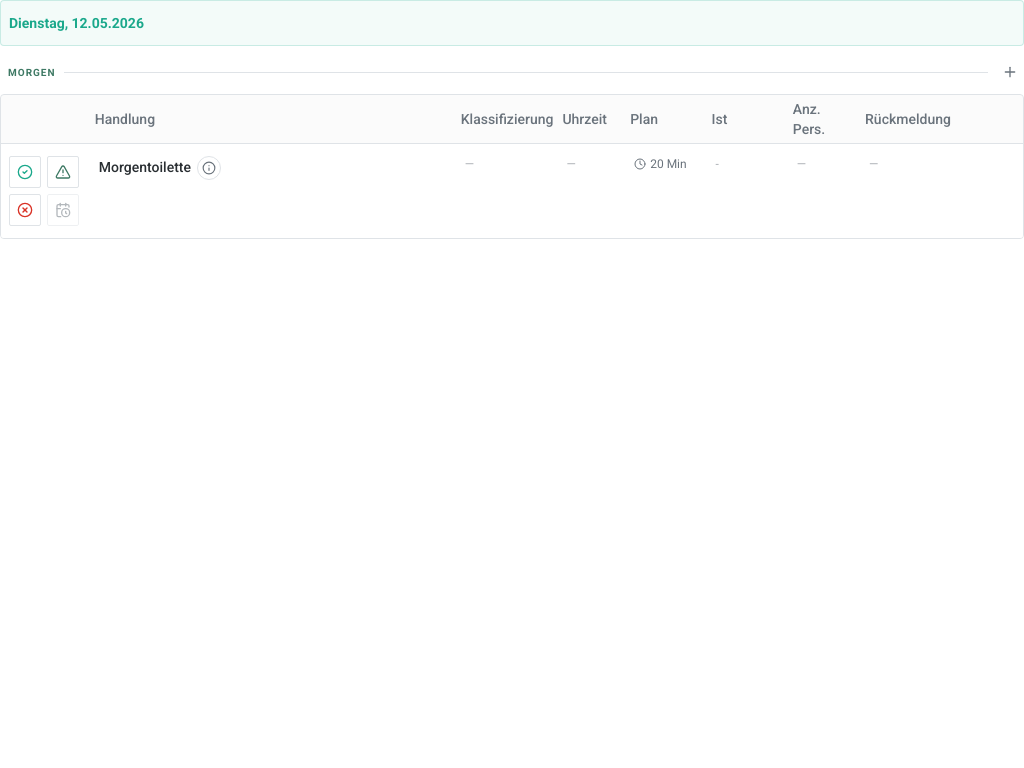
Test case: Handlungen nach Bedarf in der Umsetzung › zeigt Datum und Zeitangabe aus dem (+)-Kontext unveränderbar an
The image size is (1024, 768).
Press Enter in the button named "Handlung erfassen", box [996,58,1023,86]
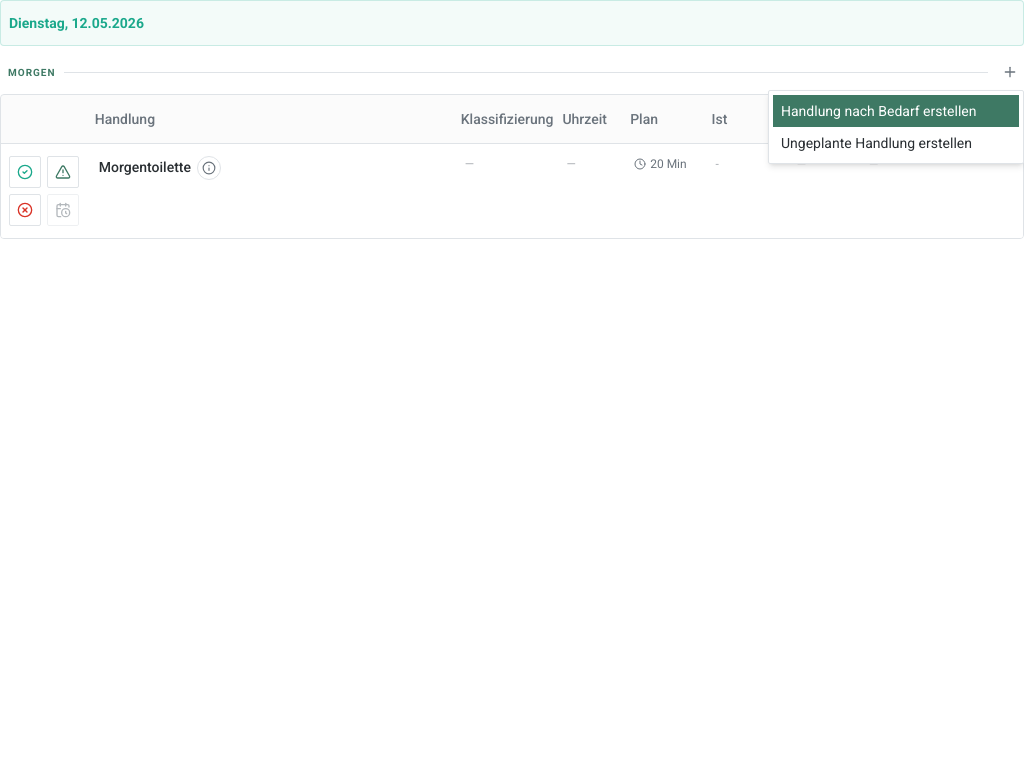
Click the menu item "Handlung nach Bedarf erstellen" at (896, 111), box [773,95,1019,127]
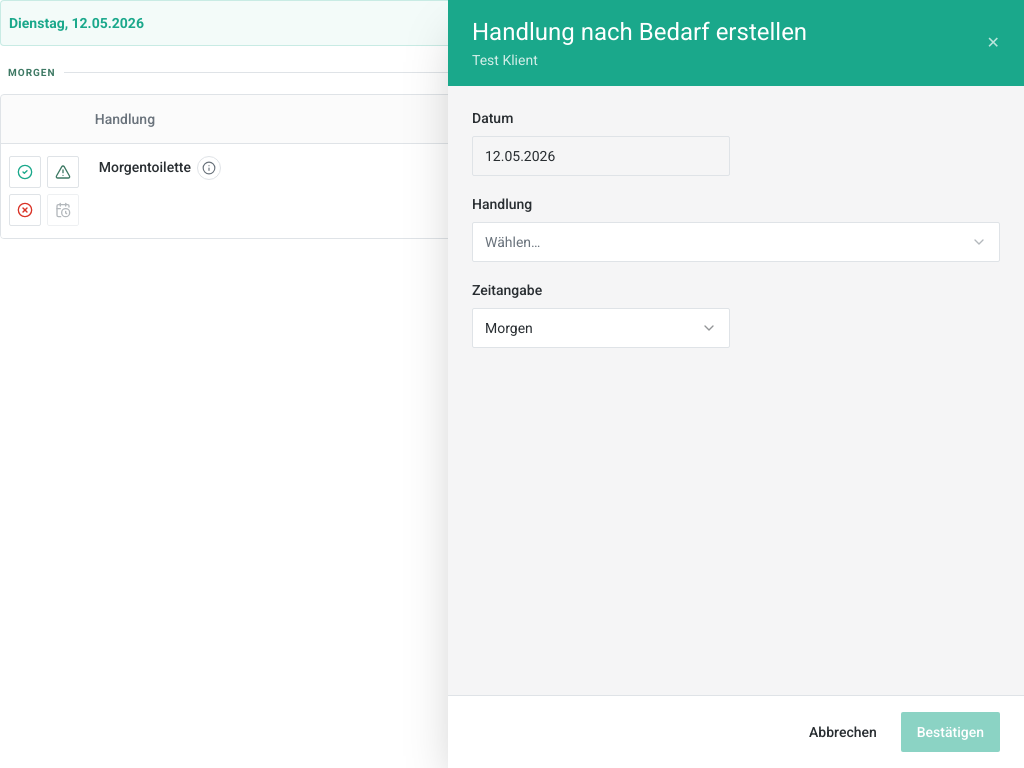
Expected: the text "12.05.2026" is shown, [472,136,730,176]
Expected: the dropdown named "Zeitangabe" is disabled, [472,308,730,348]
